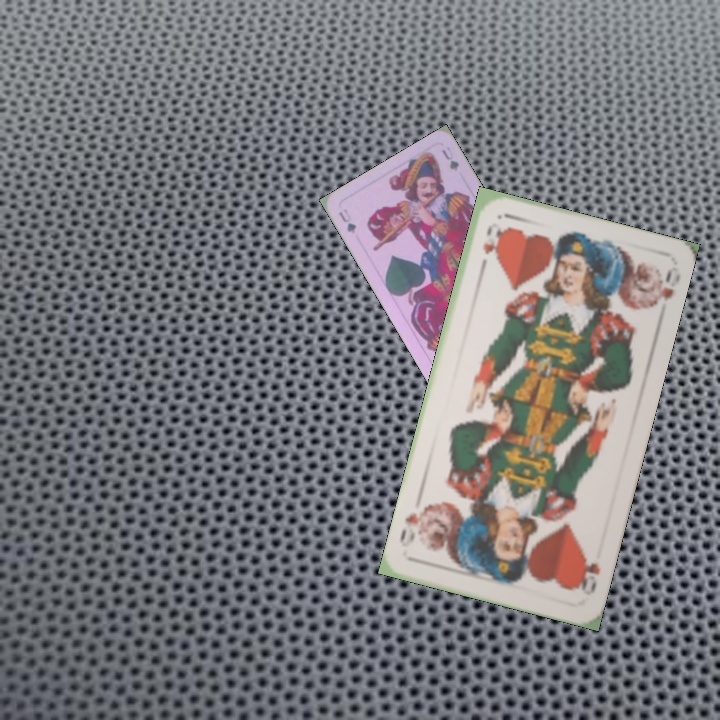GU: (335, 204, 359, 236)
HO: (476, 219, 503, 274), (573, 553, 603, 598)
